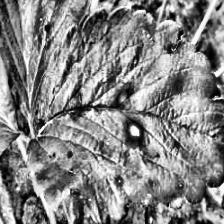Leaf Spot: (24, 6, 224, 224), (0, 0, 96, 127), (0, 8, 20, 172)
